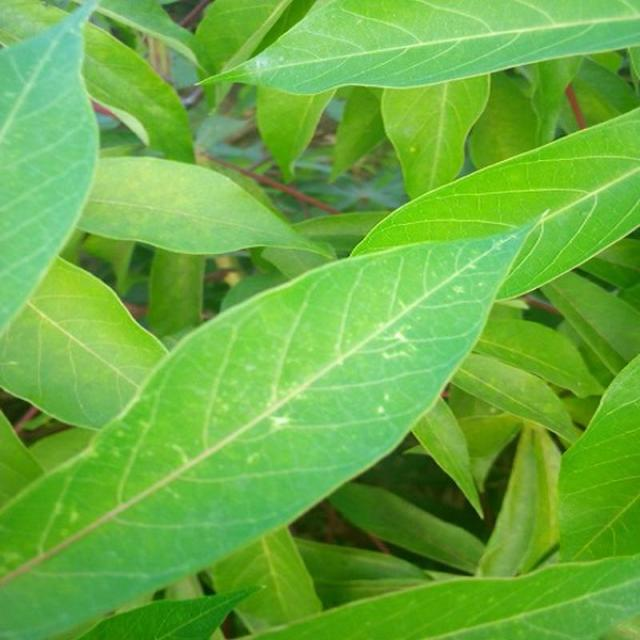cassava leaf: (1, 210, 544, 638), (349, 104, 640, 302), (194, 0, 640, 97), (0, 0, 101, 338)
